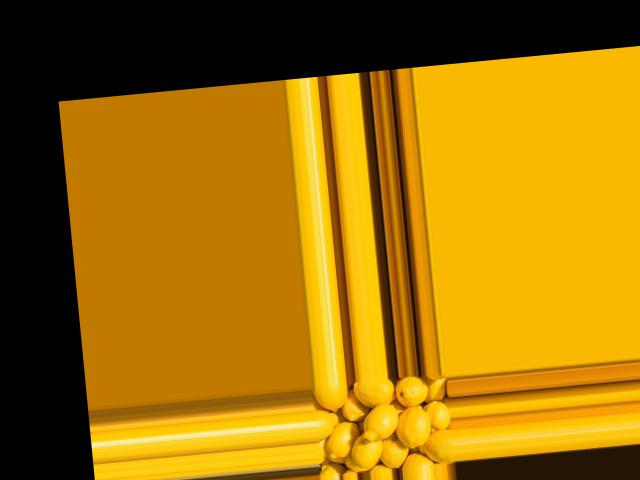lemon: (346, 434, 382, 472)
